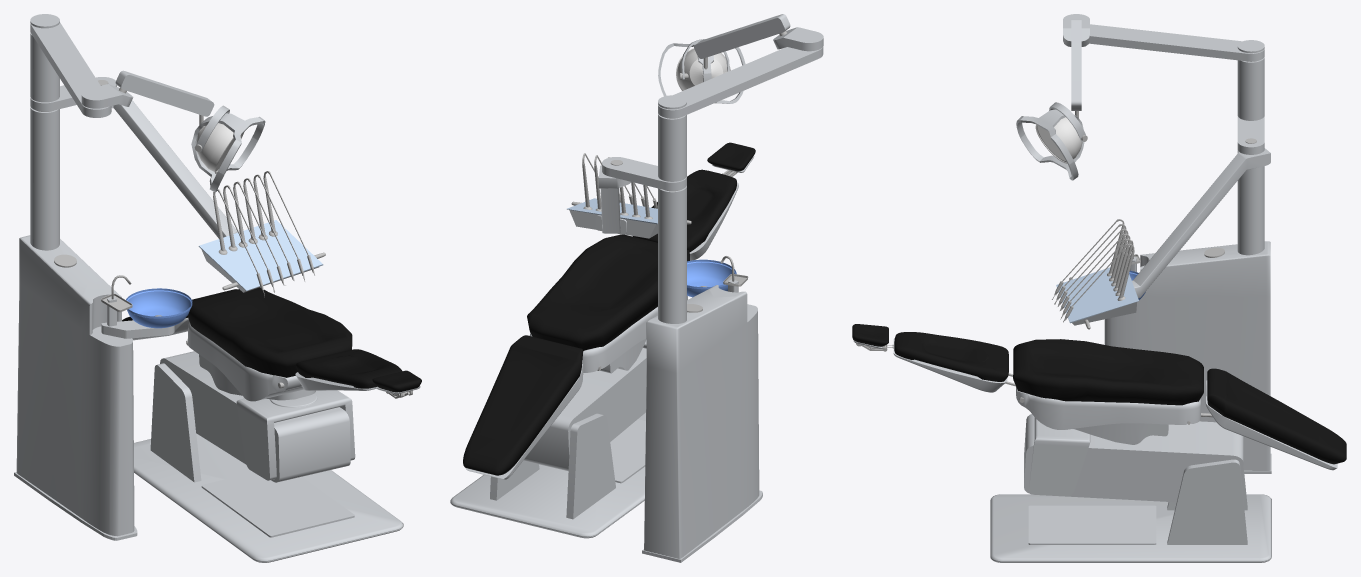
Rendered from Dentist_Chair.fbx.
3 views of the same model, side by side, from view 1: azimuth 30°, elevation 25°; view 2: azimuth 150°, elevation 25°; view 3: azimuth 270°, elevation 25° (orthographic). The views are drawn at different scales.
Parts seen in each view (by area): view 1: Base, Bottom_Plate, Pillows.001, Machinery, Lid, Pillars, Pillar, Top Panel, Pillars.001, Pillar.005, Equipment base, Pillar.008 (+14 smaller); view 2: Base, Pillows.001, Pillows.002, Bottom_Plate, Machinery, Pillars, Pillar, Pillar.008, Pillows.003, Pillar.007, Holder, Lid (+15 smaller); view 3: Base, Pillows.001, Bottom_Plate, Machinery, Pillars, Pillows.002, Lid, Foundation.002, Pillows.003, Pillars.001, Pillar.005, Pillar.008 (+12 smaller).
Part boxes in pixels (bbox=[...]): Base: bbox=[16, 235, 134, 536]; Bottom_Plate: bbox=[134, 433, 403, 562]; Pillows.001: bbox=[187, 287, 352, 377]; Machinery: bbox=[160, 351, 350, 482]; Lid: bbox=[201, 472, 354, 537]; Pillars: bbox=[150, 363, 201, 482]; Pillar: bbox=[30, 106, 59, 250]; Top Panel: bbox=[198, 220, 323, 290]; Pillars.001: bbox=[236, 390, 355, 480]; Pillar.005: bbox=[111, 100, 239, 238]; Equipment base: bbox=[213, 171, 314, 290]; Pillar.008: bbox=[30, 22, 111, 117]; Base: bbox=[644, 285, 759, 558]; Pillows.001: bbox=[527, 234, 689, 350]; Pillows.002: bbox=[463, 335, 583, 475]; Bottom_Plate: bbox=[450, 412, 645, 538]; Machinery: bbox=[523, 348, 646, 471]; Pillars: bbox=[490, 413, 615, 519]; Pillar: bbox=[658, 186, 686, 323]; Pillar.008: bbox=[658, 47, 823, 118]; Pillows.003: bbox=[633, 169, 736, 251]; Pillar.007: bbox=[658, 113, 686, 181]; Holder: bbox=[694, 14, 790, 58]; Lid: bbox=[610, 419, 645, 483]; Base: bbox=[1104, 241, 1270, 470]; Pillows.001: bbox=[1013, 339, 1203, 405]; Bottom_Plate: bbox=[990, 494, 1271, 562]; Machinery: bbox=[1024, 414, 1243, 502]; Pillars: bbox=[1167, 459, 1247, 544]; Pillows.002: bbox=[1207, 368, 1346, 464]; Lid: bbox=[1028, 505, 1156, 544]; Foundation.002: bbox=[1016, 386, 1201, 429]; Pillows.003: bbox=[894, 332, 1008, 381]; Pillars.001: bbox=[1029, 417, 1090, 496]; Pillar.005: bbox=[1132, 148, 1270, 298]; Pillar.008: bbox=[1089, 24, 1264, 61].
Bounding box in the file's own units: 338 × 558 × 570.
